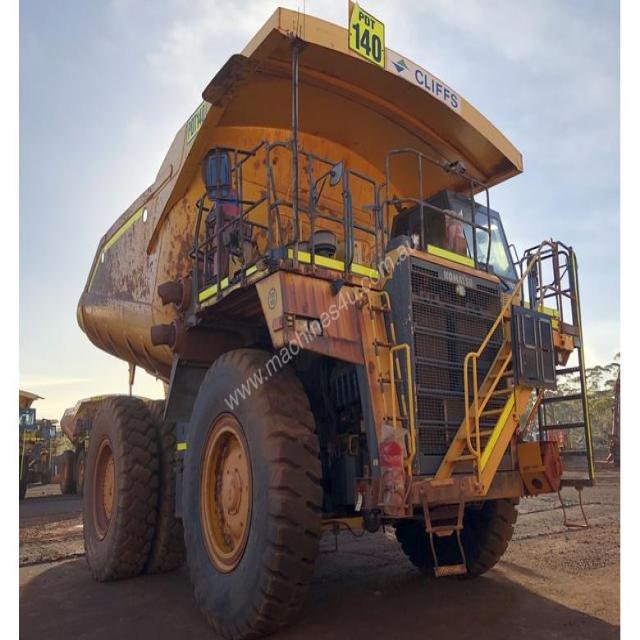dump_truck: (70, 12, 588, 618)
